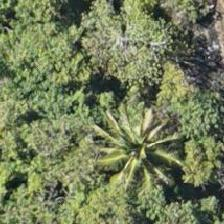coconut_tree: (96, 101, 186, 191)
